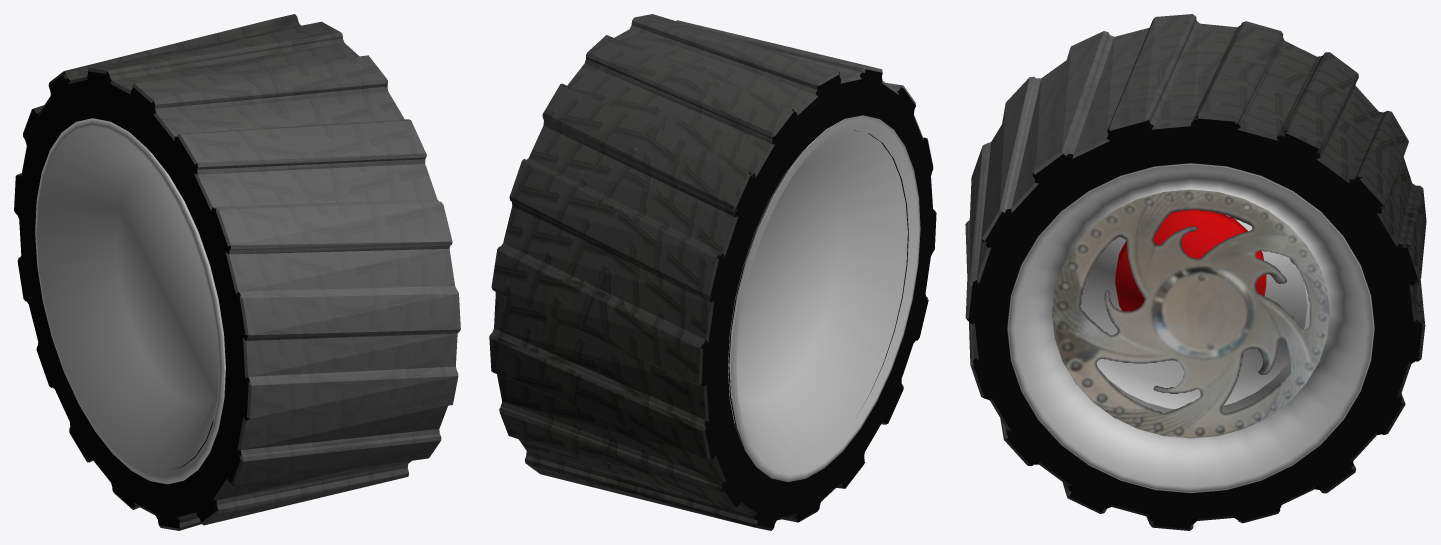
The model's file is felge_export2.obj.
The picture shows the model from 3 angles, left to right: view 1: azimuth 30°, elevation 25°; view 2: azimuth 150°, elevation 25°; view 3: azimuth 270°, elevation 25°; orthographic projection. The views are drawn at different scales.
Parts seen in each view (by area): view 1: Cylinder.003_Cylinder.006; view 2: Cylinder.003_Cylinder.006; view 3: Cylinder.003_Cylinder.006.
Part boxes in pixels (<box>): Cylinder.003_Cylinder.006: <box>14,14,460,530</box>; Cylinder.003_Cylinder.006: <box>489,14,936,530</box>; Cylinder.003_Cylinder.006: <box>965,14,1426,530</box>.
Bounding box in the file's own units: 0.8671 × 1.54 × 1.54.
